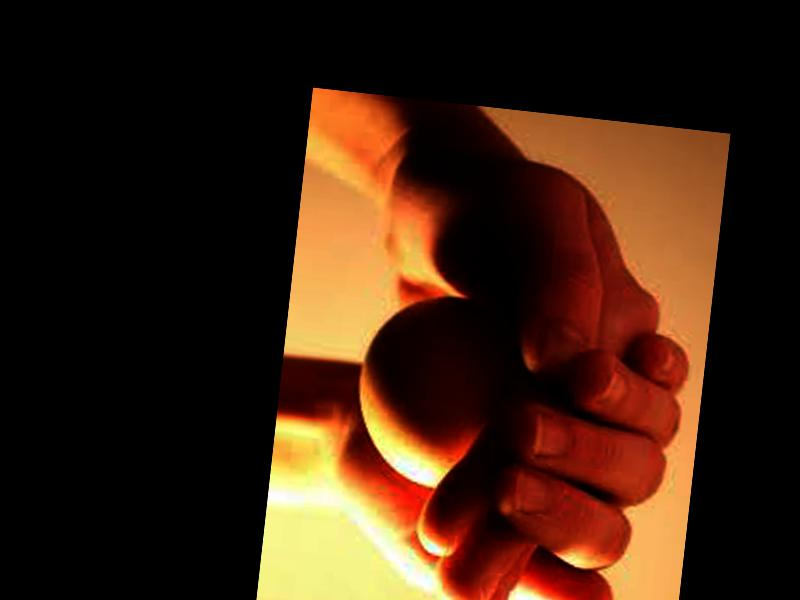Eggs: (348, 286, 515, 494)
